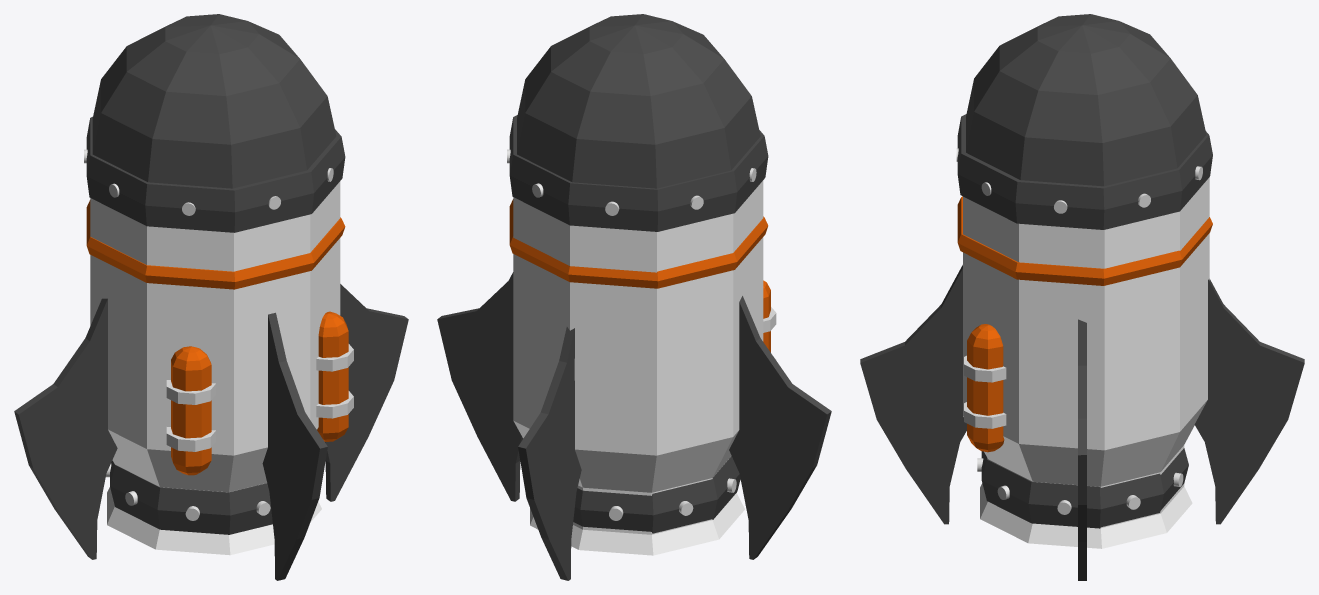
File: Rocket Tail 3.fbx
3 renders of one model, left to right at view 1: azimuth 30°, elevation 25°; view 2: azimuth 150°, elevation 25°; view 3: azimuth 270°, elevation 25°, orthographic.
Parts seen in each view (by area): view 1: Окружность.006; view 2: Окружность.006; view 3: Окружность.006.
Part boxes in pixels (bbox=[...]): Окружность.006: bbox=[14, 14, 408, 580]; Окружность.006: bbox=[437, 14, 831, 580]; Окружность.006: bbox=[860, 14, 1304, 580].
Size of the model in its own units: 492 by 607 by 492.
